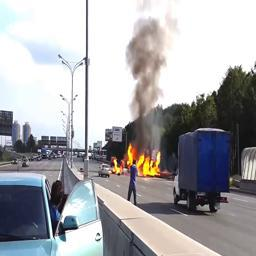fire: (111, 143, 163, 177)
